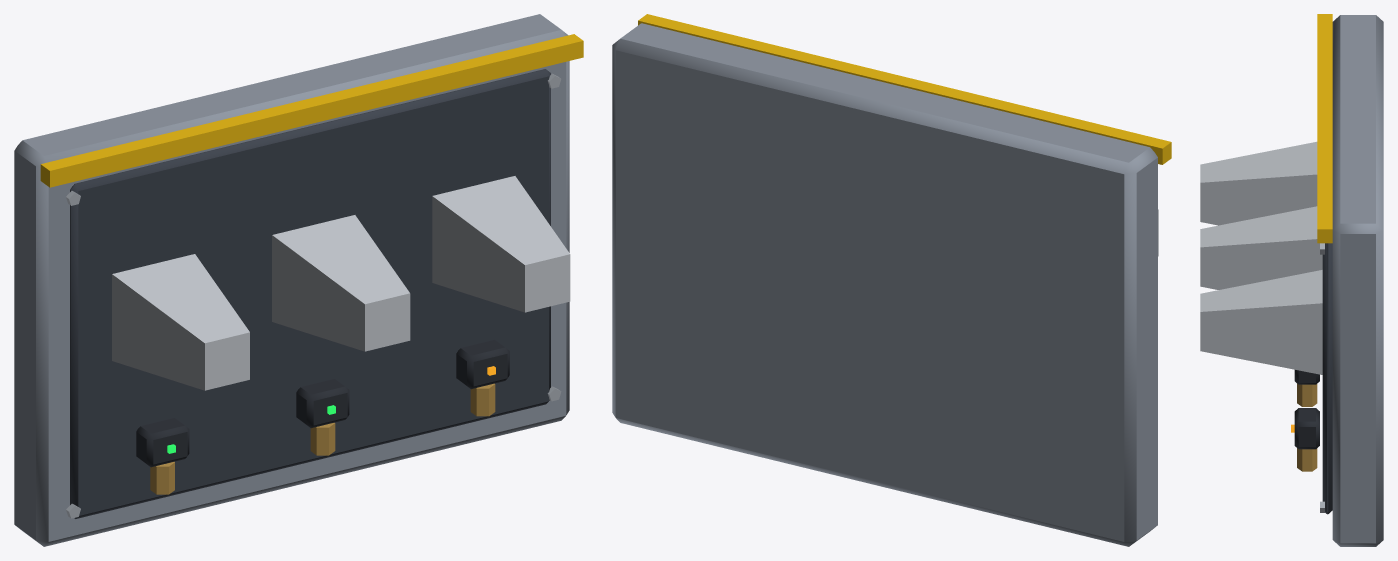
Rendered from antenna_feed_horn_panel.glb.
3 views of the same model, side by side, from view 1: azimuth 30°, elevation 25°; view 2: azimuth 150°, elevation 25°; view 3: azimuth 270°, elevation 25° (orthographic). The views are drawn at different scales.
Parts seen in each view (by area): view 1: antenna_feed_horn_panel; view 2: antenna_feed_horn_panel; view 3: antenna_feed_horn_panel.
Boxes of the visible parts, bbox=[...] form: antenna_feed_horn_panel: bbox=[14, 14, 583, 546]; antenna_feed_horn_panel: bbox=[612, 14, 1171, 546]; antenna_feed_horn_panel: bbox=[1200, 14, 1383, 546].
Bounding box in the file's own units: 1 × 0.7 × 0.36.
